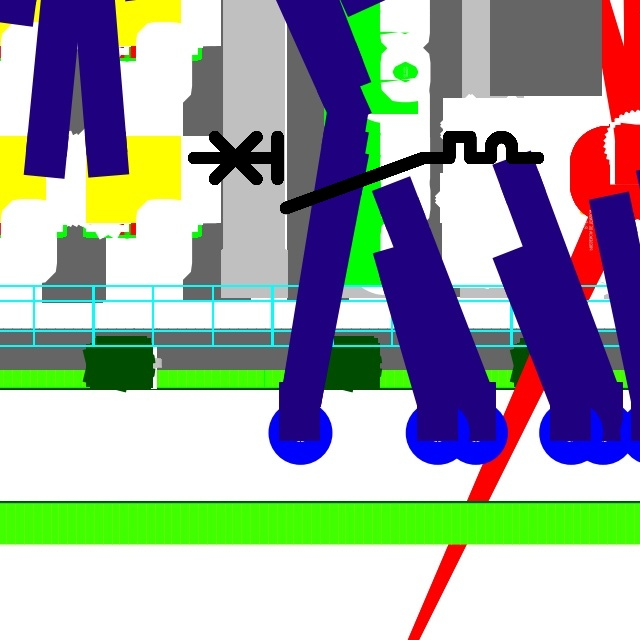interruptor_termomagnetico: (185, 128, 547, 216)
